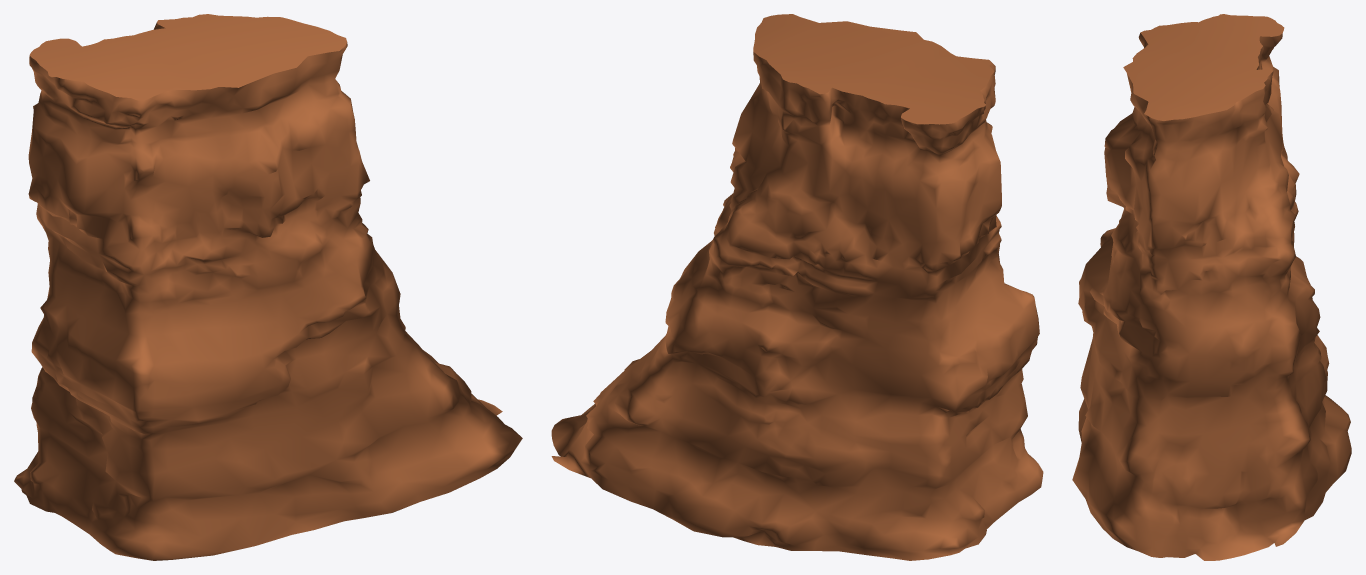
Rendered from MSH_Rocks_Cliff_11_c.FBX.
3 views of the same model, side by side, from view 1: azimuth 30°, elevation 25°; view 2: azimuth 150°, elevation 25°; view 3: azimuth 270°, elevation 25° (orthographic). The views are drawn at different scales.
Visible parts, largest first — view 1: MESH_LOD0, CAP_LOD0; view 2: MESH_LOD0, CAP_LOD0; view 3: MESH_LOD0, CAP_LOD0.
Part boxes in pixels (x1=…): MESH_LOD0: x1=14, y1=22, x2=522, y2=560; CAP_LOD0: x1=30, y1=14, x2=346, y2=100; MESH_LOD0: x1=551, y1=40, x2=1043, y2=560; CAP_LOD0: x1=753, y1=14, x2=994, y2=124; MESH_LOD0: x1=1072, y1=33, x2=1351, y2=560; CAP_LOD0: x1=1123, y1=14, x2=1284, y2=120.
Size of what is drawn, in the model's own units: 723 by 673 by 463.
